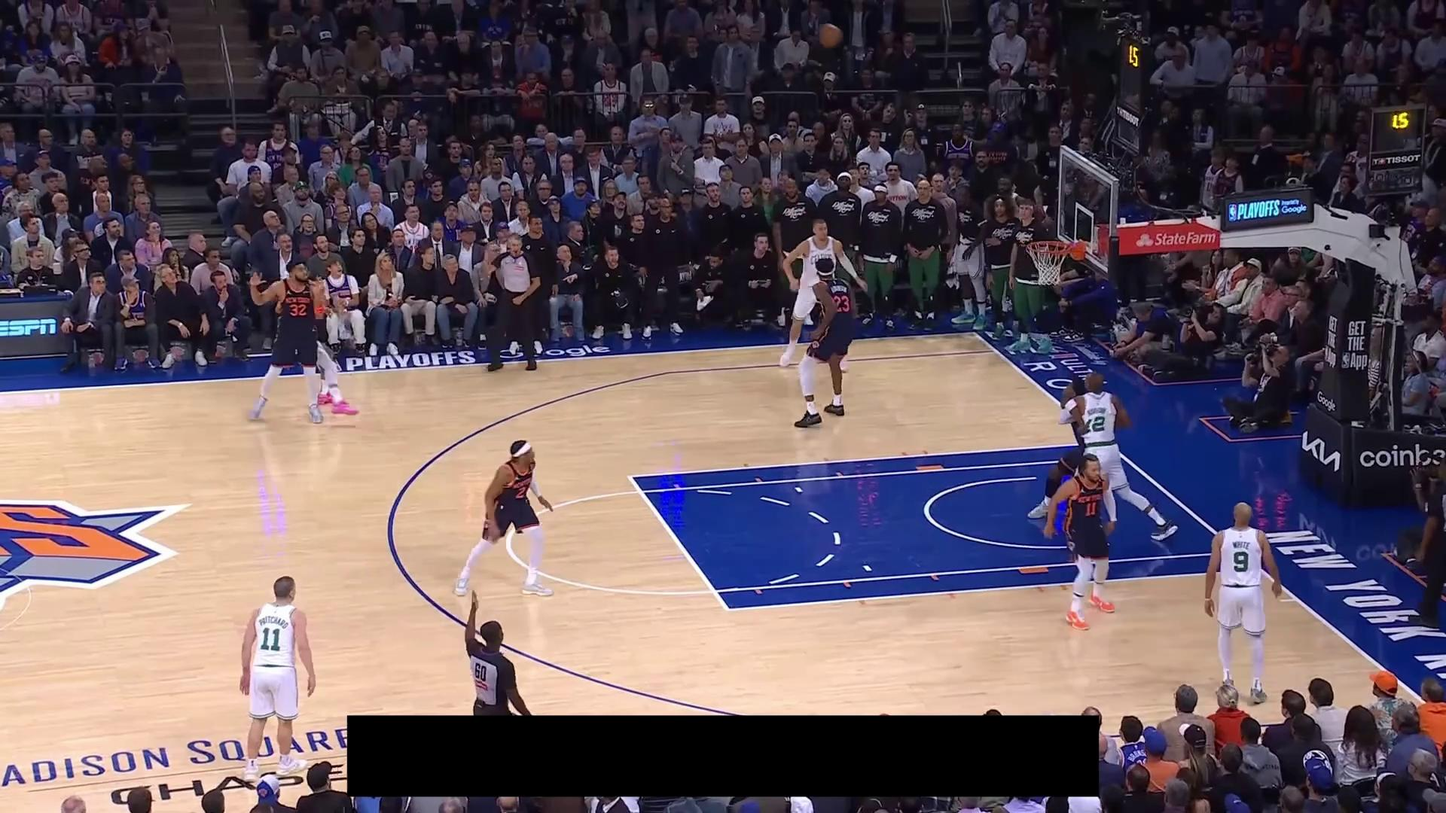ball: (818, 23, 844, 49)
number: (260, 626, 282, 652), (1233, 550, 1249, 573), (1088, 416, 1106, 433), (833, 294, 850, 312), (288, 302, 308, 317), (1084, 501, 1097, 517), (515, 485, 527, 499)
player: (1065, 372, 1179, 542), (1203, 500, 1284, 706), (452, 438, 556, 598), (238, 575, 317, 785), (1042, 452, 1119, 631), (779, 218, 865, 374), (247, 257, 326, 424), (792, 256, 857, 429), (1027, 370, 1085, 520), (316, 340, 360, 419)
referee: (464, 588, 533, 716), (483, 233, 541, 373), (1411, 458, 1446, 630)
rim: (1025, 240, 1072, 254)
